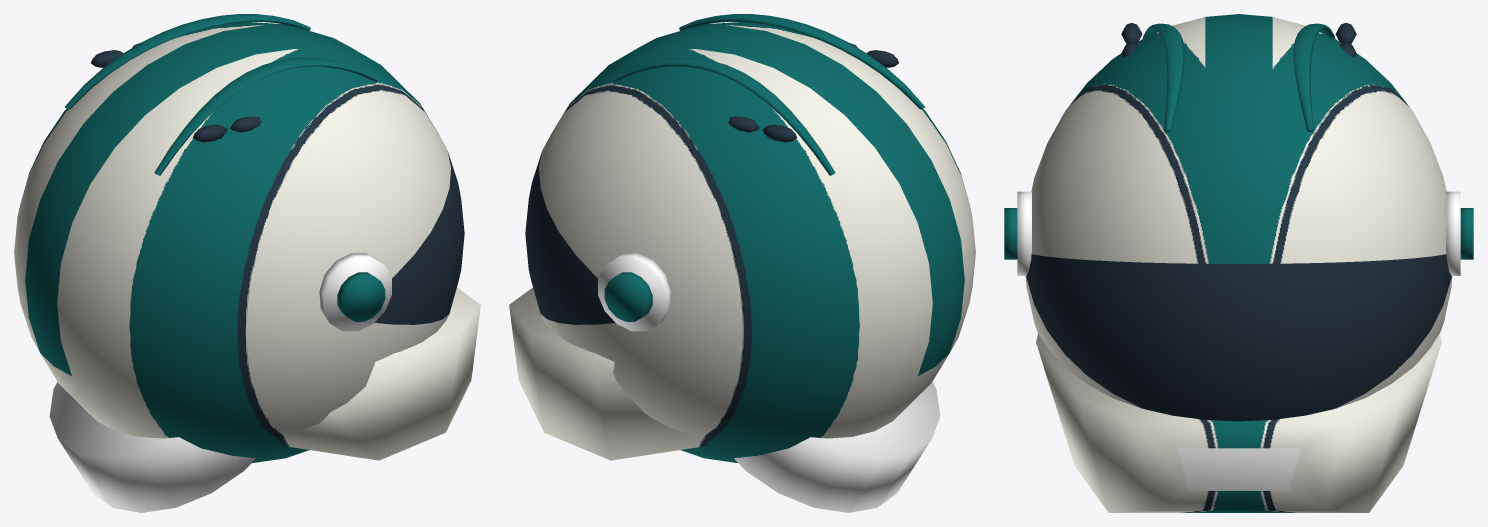
Rendered from Helmet_12_R_碧線・剪断.glb.
3 renders of one model, left to right at view 1: azimuth 30°, elevation 25°; view 2: azimuth 150°, elevation 25°; view 3: azimuth 270°, elevation 25°, orthographic. The views are drawn at different scales.
Visible parts, largest first — view 1: Helmet_12_R, Visor; view 2: Helmet_12_R, Visor; view 3: Helmet_12_R, Visor.
Boxes of the visible parts, x1,y1,x2,y2 form: Helmet_12_R: (14,14,480,512); Visor: (91,43,464,324); Helmet_12_R: (509,14,975,512); Visor: (525,43,898,324); Helmet_12_R: (1004,14,1473,512); Visor: (1026,23,1451,421).
Bounding box in the file's own units: 0.301 × 0.305 × 0.289.
Materials: 3 (3 with a texture image).
